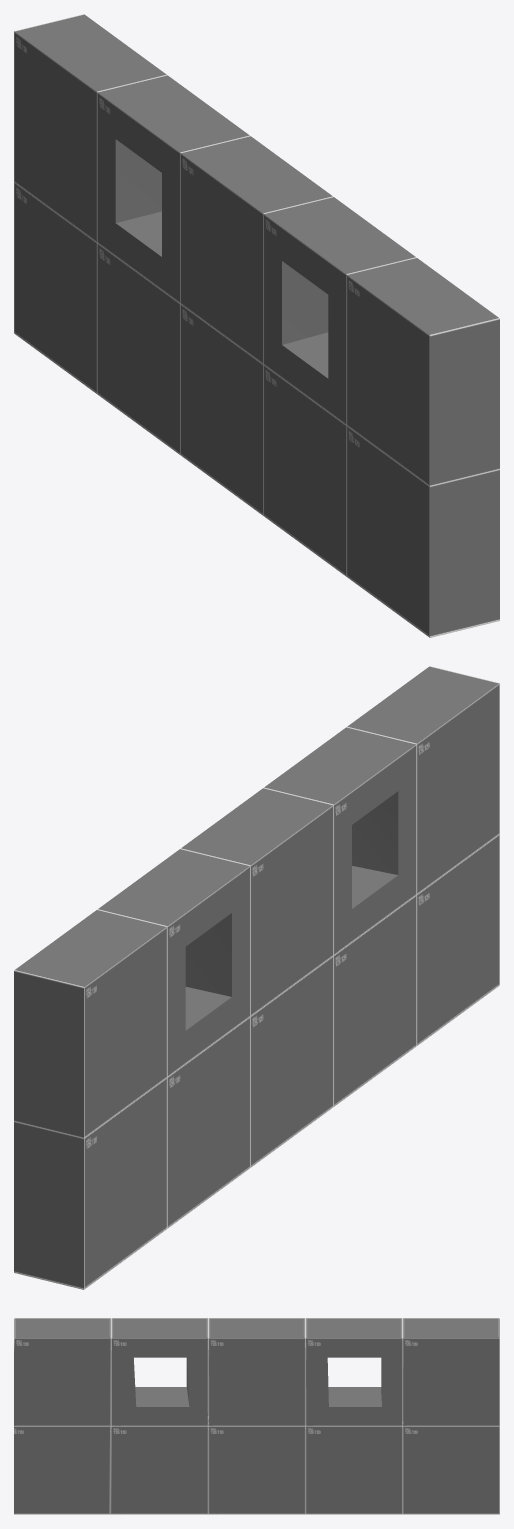
The model's file is WallSmallWindow.fbx.
The picture shows the model from 3 angles, top to bottom: view 1: azimuth 30°, elevation 25°; view 2: azimuth 150°, elevation 25°; view 3: azimuth 270°, elevation 25°; orthographic projection. The views are drawn at different scales.
Visible parts, largest first — view 1: WallSmallWindow; view 2: WallSmallWindow; view 3: WallSmallWindow.
Part boxes in pixels (<box>): WallSmallWindow: <box>14,14,499,637</box>; WallSmallWindow: <box>14,666,499,1289</box>; WallSmallWindow: <box>14,1318,499,1514</box>.
Size of the model in its own units: 1.24 by 5.13 by 12.8.
